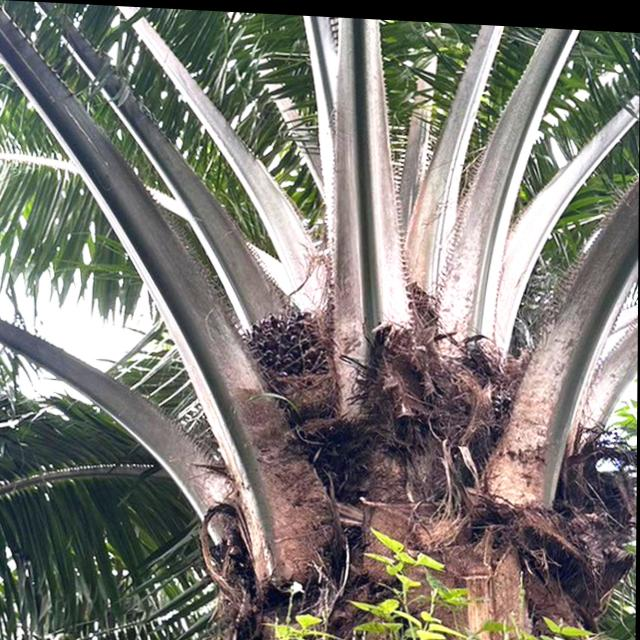almost: (245, 304, 337, 383)
